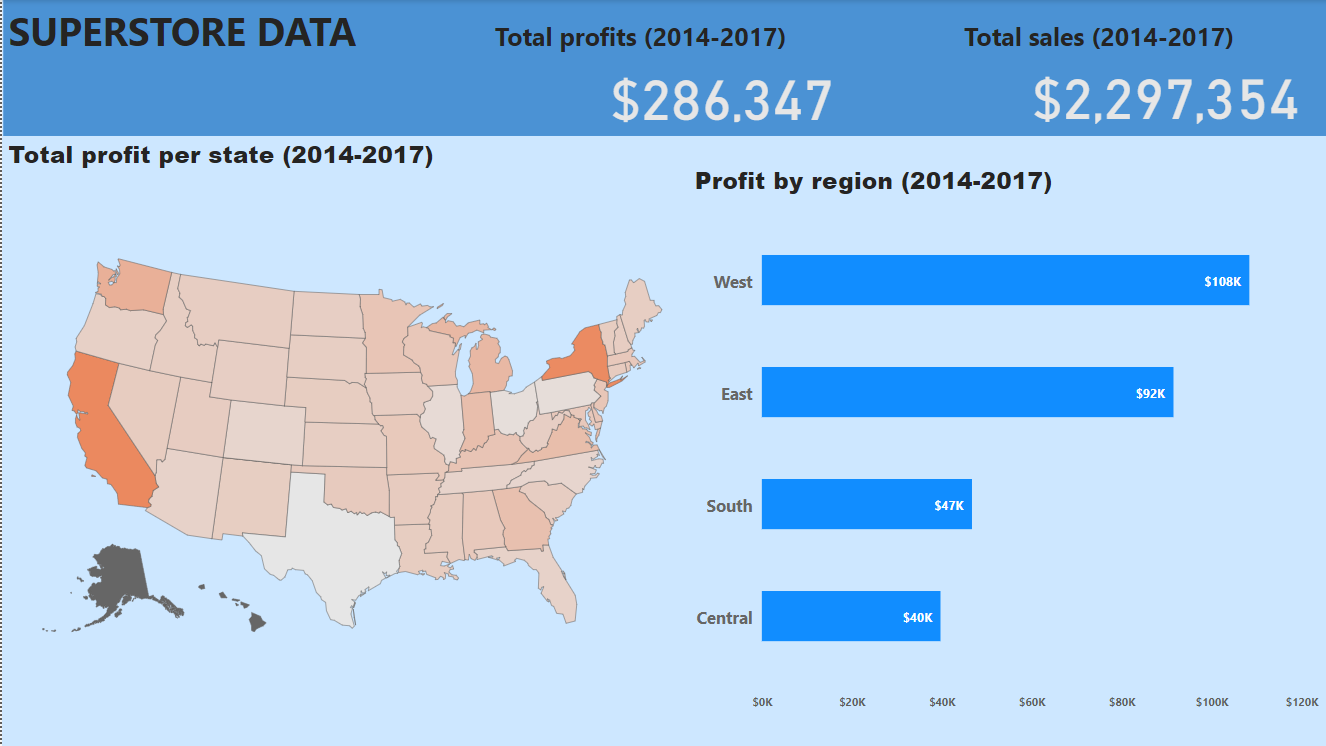

What the dashboard file says about the page in this screenshot:
{"tool":"powerbi","page":{"name":"Page 1","canvas":[1280,720],"ordinal":0},"visuals":[{"type":"textbox","box":[1.2,0,1279.6,131.5],"z":0},{"type":"shapeMap","title":"Total profit per state (2014-2017)","fields":{"Value":["Sum(faizi_csv2.Profit)"],"Category":["faizi_csv2.State"]},"box":[1.5,132.1,673.9,562.3],"z":1},{"type":"clusteredBarChart","title":"Profit by region (2014-2017)","fields":{"Category":["faizi_csv2.Region"],"Y":["Sum(faizi_csv2.Profit)"]},"box":[663.3,158,616.3,536.7],"z":2},{"type":"card","fields":{"Values":["Sum(faizi_csv2.Profit)"]},"box":[545,57.9,299.3,64.9],"z":4},{"type":"card","fields":{"Values":["Sum(faizi_csv2.Sales)"]},"box":[972.8,50.8,299.3,77.7],"z":5}]}

Visuals, with their boxes in screenshot pixels (x1, y1, x2, y2), scaled from the page's 1280x720 canvas onto the 1326x746 screenshot:
textbox: (left=1, top=0, right=1325, bottom=136)
"Total profit per state (2014-2017)" shapeMap: (left=2, top=137, right=700, bottom=719)
"Profit by region (2014-2017)" clusteredBarChart: (left=687, top=164, right=1325, bottom=720)
card - Sum(faizi_csv2.Profit): (left=565, top=60, right=875, bottom=127)
card - Sum(faizi_csv2.Sales): (left=1008, top=53, right=1318, bottom=133)
